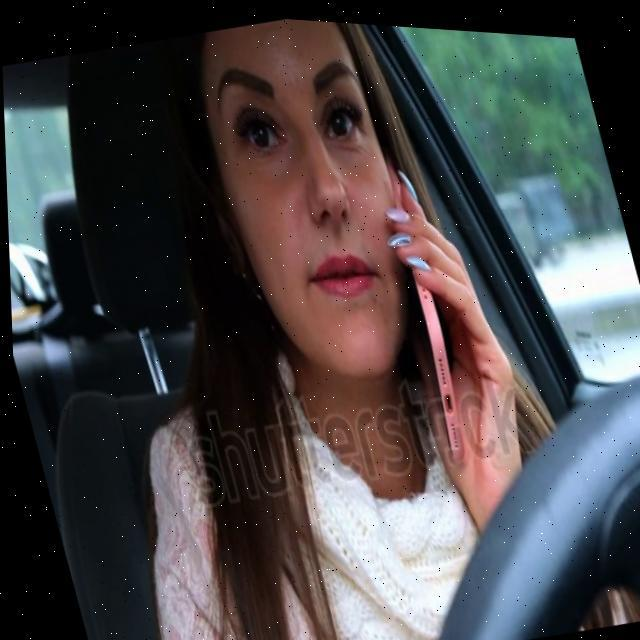PhoneCall: (359, 130, 484, 468)
